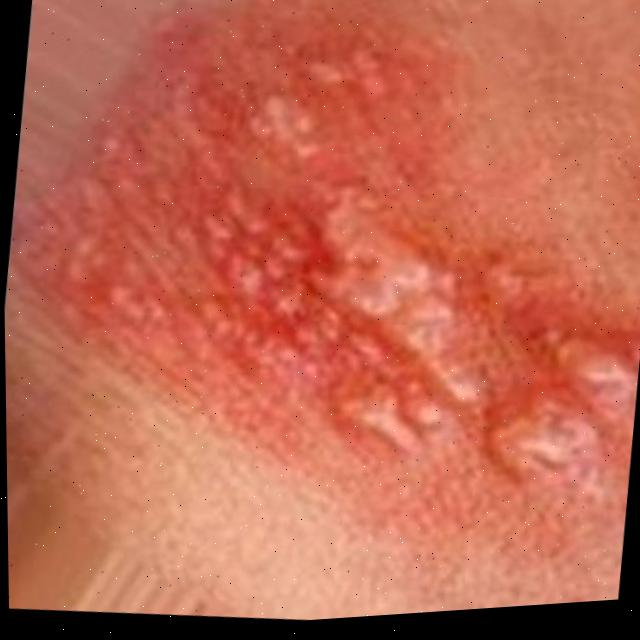Shingles: (15, 0, 640, 541)
